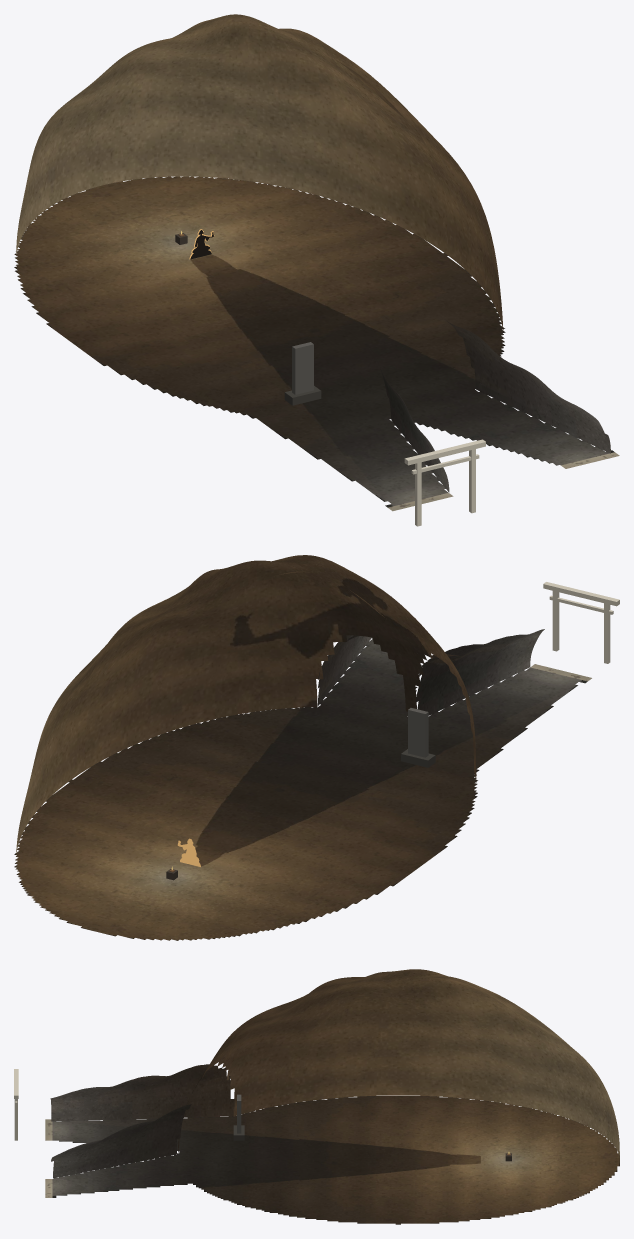
Rendered from shizu-iwaya-jissun.glb.
3 renders of one model, top to bottom at view 1: azimuth 30°, elevation 25°; view 2: azimuth 150°, elevation 25°; view 3: azimuth 270°, elevation 25°, orthographic. The views are drawn at different scales.
Visible parts, largest first — view 1: 床, 千畳敷, 第二口の通路, 第一口の通路, 歌碑（前）; view 2: 床, 千畳敷, 第一口の通路, 第二口の通路, 歌碑（後）; view 3: 床, 千畳敷, 第一口の通路, 第二口の通路.
Boxes of the visible parts, x1,y1,x2,y2 form: 床: (14, 176, 619, 511); 千畳敷: (16, 14, 503, 331); 第二口の通路: (446, 320, 610, 453); 第一口の通路: (367, 347, 449, 492); 歌碑（前）: (295, 344, 313, 394); 床: (14, 637, 591, 940); 千畳敷: (16, 555, 476, 853); 第一口の通路: (415, 629, 544, 715); 第二口の通路: (317, 635, 371, 706); 歌碑（後）: (408, 710, 425, 757); 床: (45, 1096, 619, 1224); 千畳敷: (178, 969, 619, 1156); 第一口の通路: (50, 1064, 234, 1121); 第二口の通路: (51, 1104, 191, 1178).
Size of the model in its own units: 22.1 by 14.07 by 43.79.
Materials: 47 (4 with a texture image).
